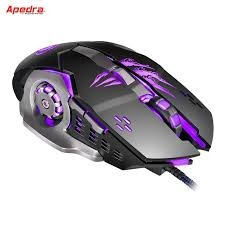mouse: (14, 38, 214, 171)
